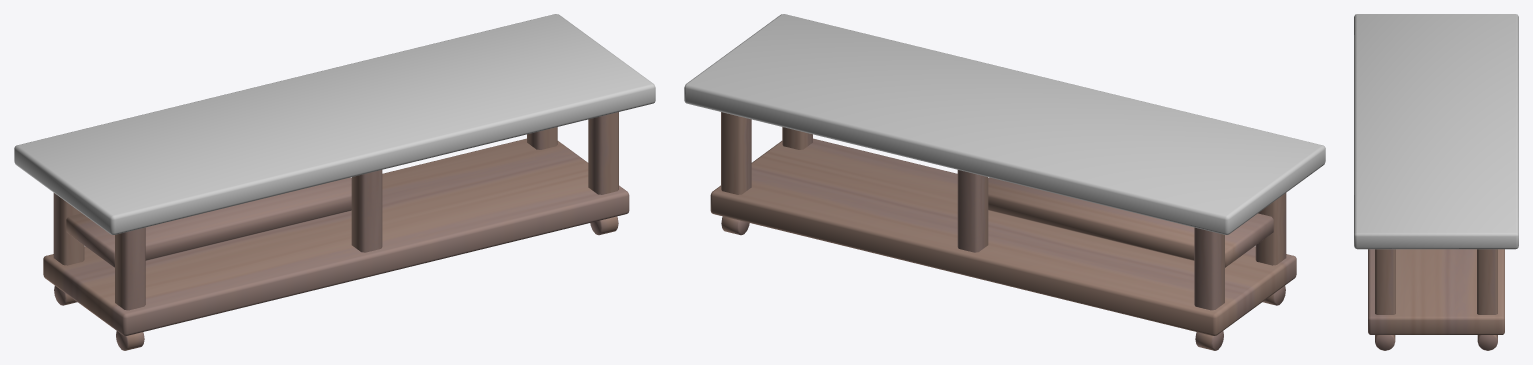
File: Florist_Desk_01.fbx
The picture shows the model from 3 angles, left to right: view 1: azimuth 30°, elevation 25°; view 2: azimuth 150°, elevation 25°; view 3: azimuth 270°, elevation 25°; orthographic projection. The views are drawn at different scales.
Parts seen in each view (by area): view 1: Florist_Table_01; view 2: Florist_Table_01; view 3: Florist_Table_01.
Part boxes in pixels (x1,y1,x2,y2): Florist_Table_01: [14, 14, 655, 350]; Florist_Table_01: [684, 14, 1325, 350]; Florist_Table_01: [1354, 14, 1518, 350].
Size of the model in its own units: 508 by 137 by 160.
